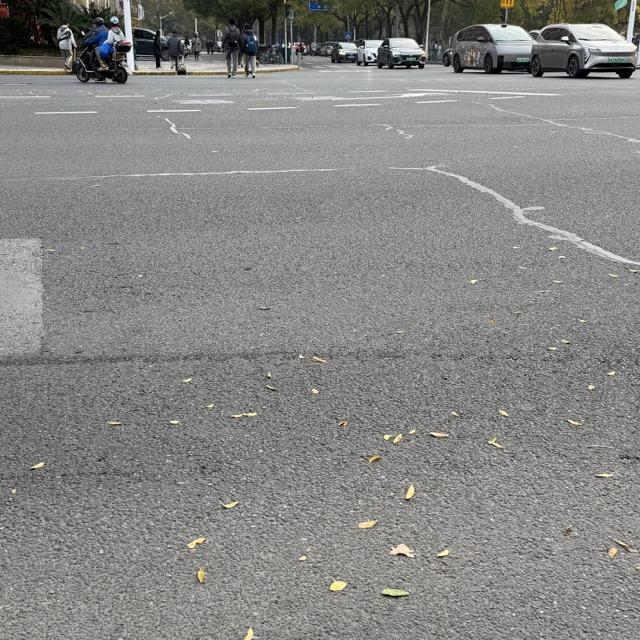curb: (0, 68, 67, 75), (257, 67, 300, 73), (134, 71, 176, 75), (188, 71, 228, 75)
